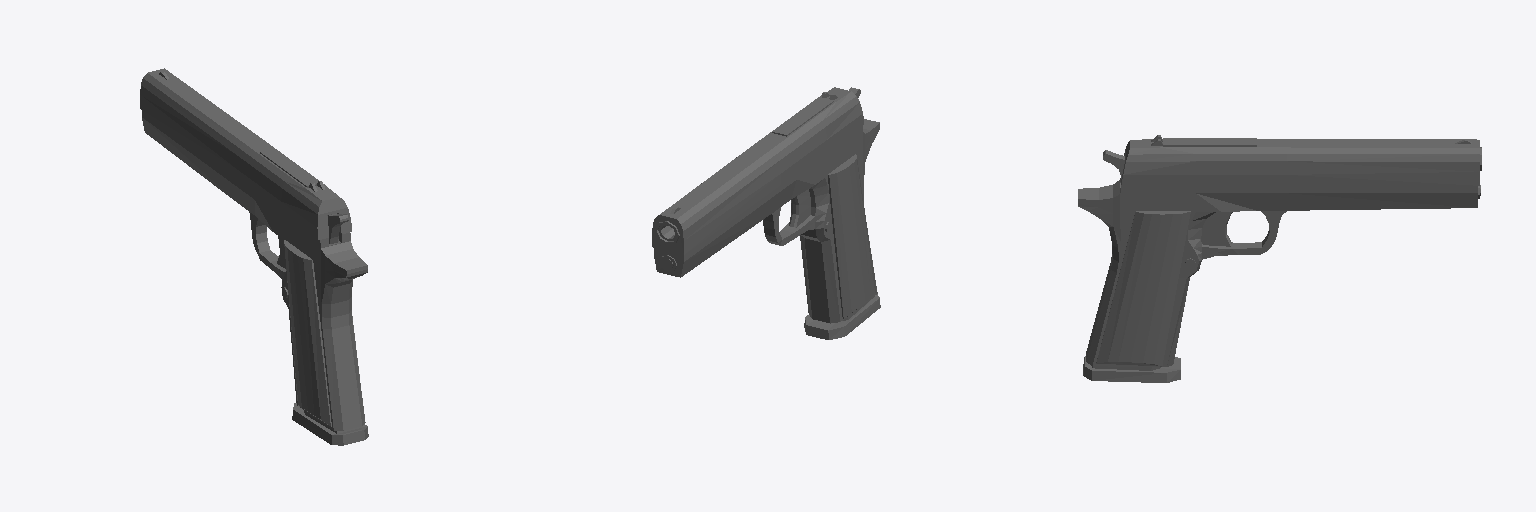
File: gun.obj
3 renders of one model, left to right at view 1: azimuth 30°, elevation 25°; view 2: azimuth 150°, elevation 25°; view 3: azimuth 270°, elevation 25°, orthographic.
Parts seen in each view (by area): view 1: Mesh_Gun; view 2: Mesh_Gun; view 3: Mesh_Gun.
Part boxes in pixels (left/top/right/bottom): Mesh_Gun: left=140, top=68, right=368, bottom=445; Mesh_Gun: left=652, top=87, right=880, bottom=339; Mesh_Gun: left=1078, top=135, right=1481, bottom=382.
Size of the model in its own units: 14.36 by 71.09 by 111.